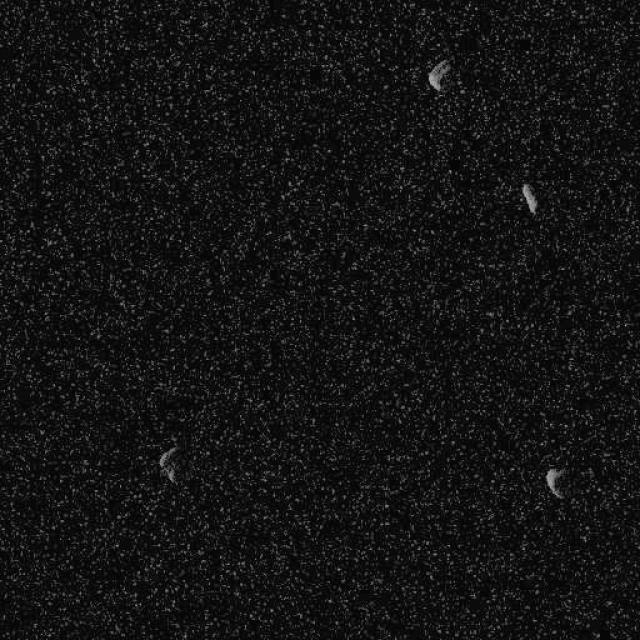D2: (426, 58, 452, 92), (158, 445, 180, 485), (544, 465, 565, 499), (520, 181, 538, 215)
